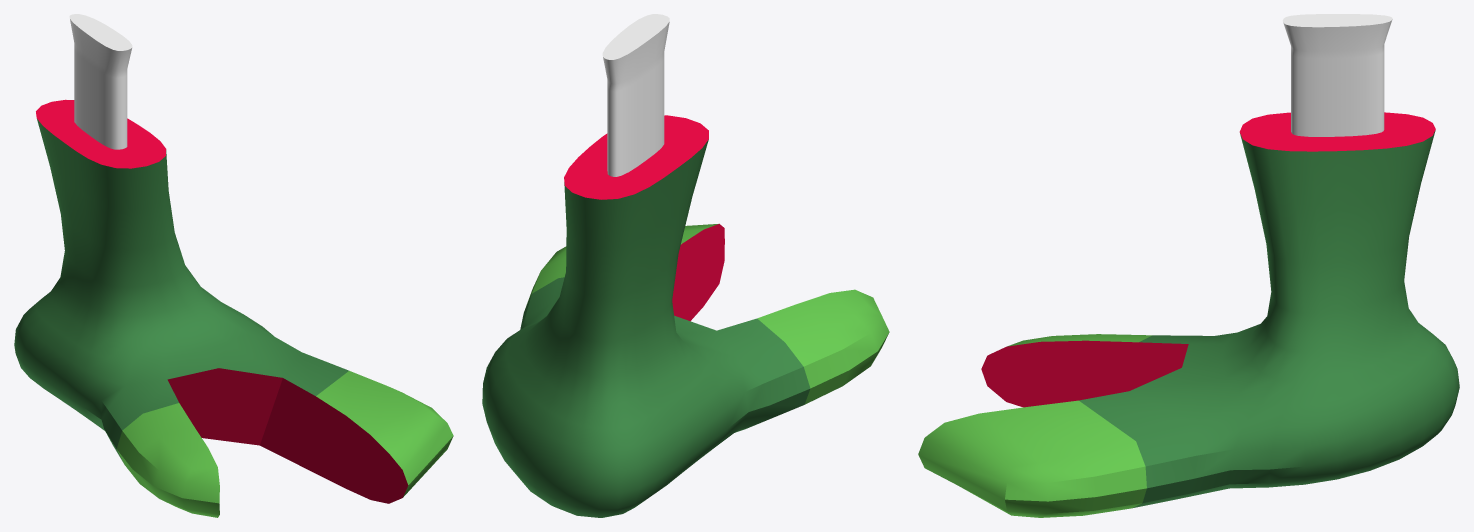
Rendered from foot.fbx.
The picture shows the model from 3 angles, left to right: view 1: azimuth 30°, elevation 25°; view 2: azimuth 150°, elevation 25°; view 3: azimuth 270°, elevation 25°; orthographic projection. The views are drawn at different scales.
Parts seen in each view (by area): view 1: foot; view 2: foot; view 3: foot.
Boxes of the visible parts, x1,y1,x2,y2 form: foot: (14,14,453,517); foot: (482,14,889,517); foot: (918,14,1459,517).
Bounding box in the file's own units: 60.58 × 78.74 × 92.79.
